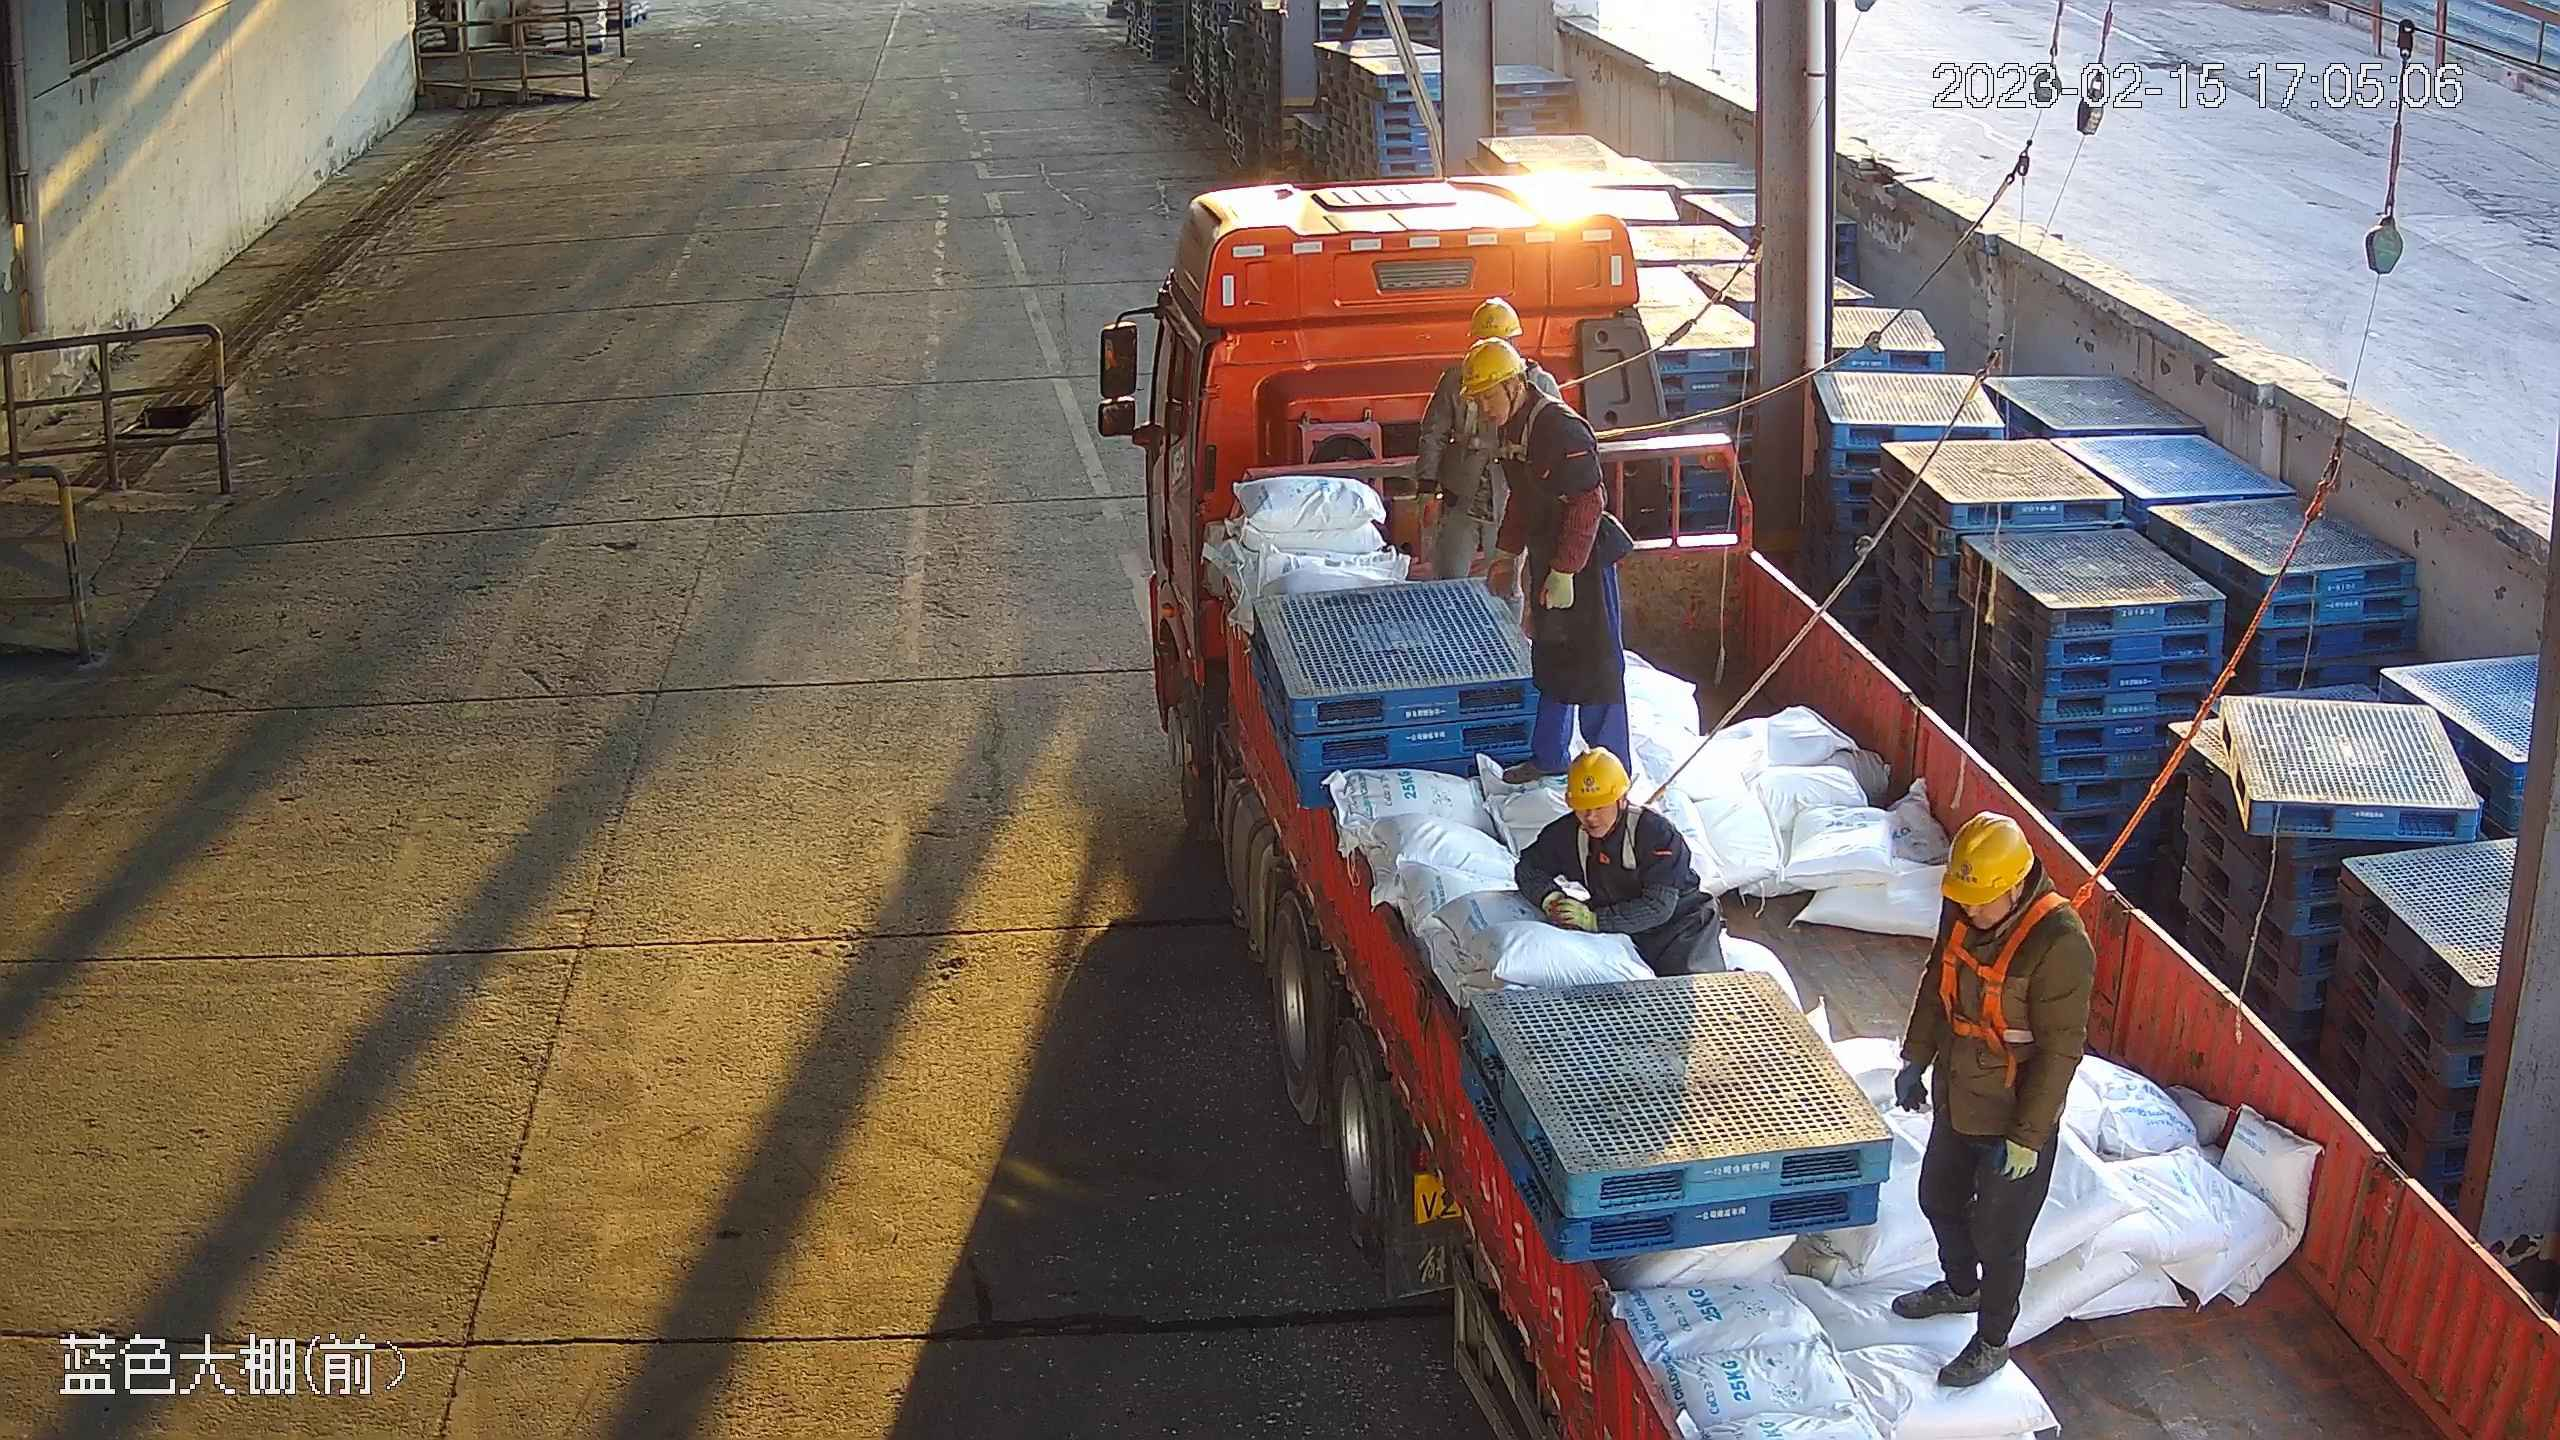belt: (1939, 875, 2097, 1045), (1488, 397, 1584, 463), (1573, 814, 1649, 876)
head: (1940, 811, 2097, 968), (1533, 744, 1680, 860), (1459, 336, 1594, 442)
helmet: (1941, 811, 2034, 907), (1563, 745, 1632, 809), (1458, 337, 1528, 396), (1465, 296, 1525, 337)
people: (1893, 811, 2096, 1389), (1458, 337, 1634, 785), (1512, 743, 1728, 979)
truck: (1139, 177, 2560, 1440)
